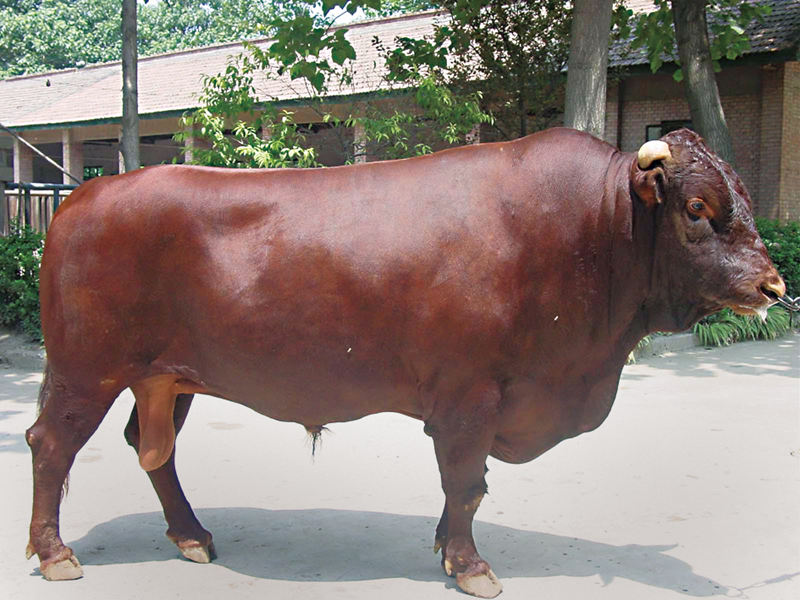background: (29, 124, 797, 597)
